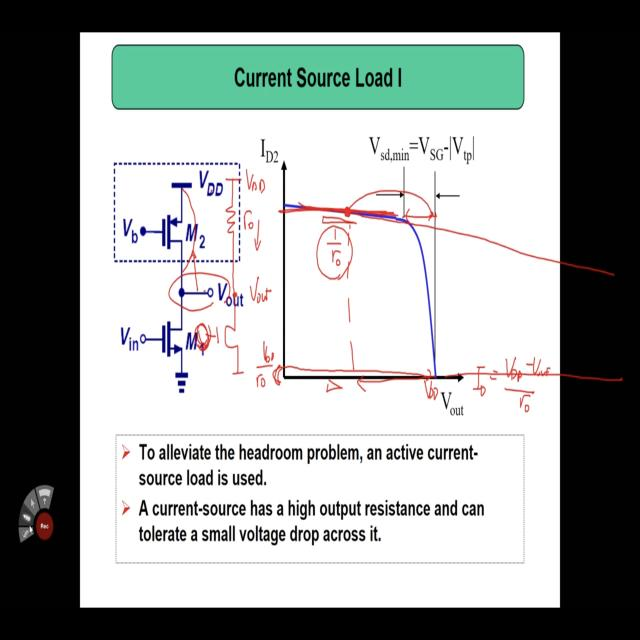panseo: (225, 170, 277, 395), (470, 351, 556, 423), (313, 219, 360, 295)
